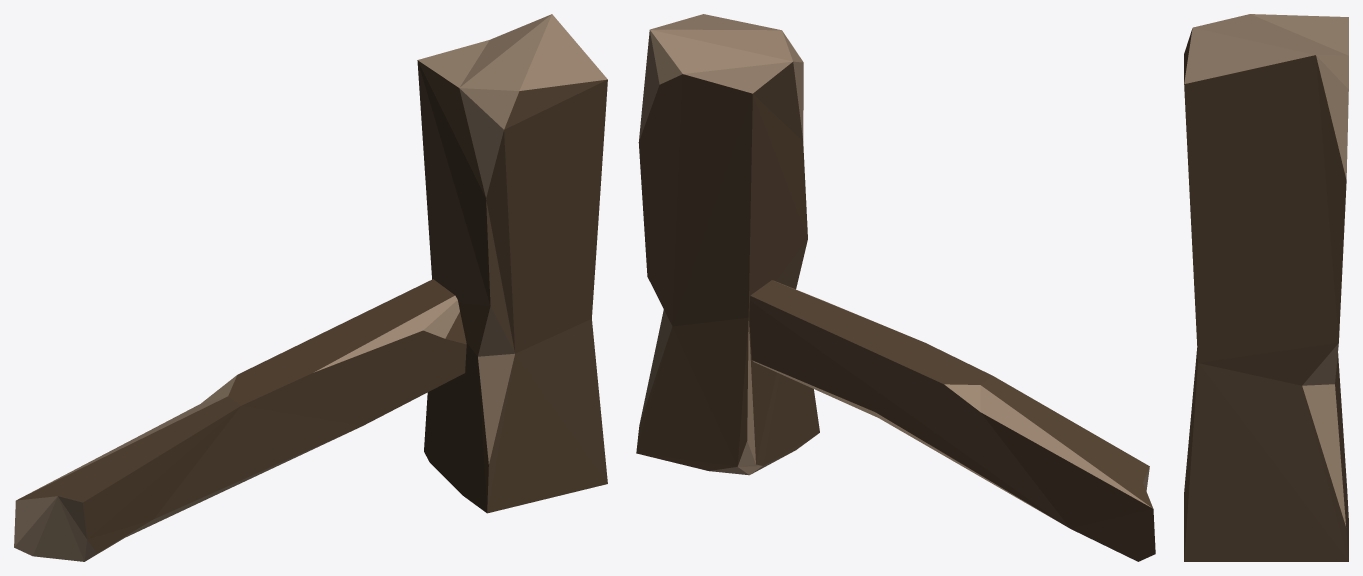
The model's file is Railing_B_04.FBX.
3 renders of one model, left to right at view 1: azimuth 30°, elevation 25°; view 2: azimuth 150°, elevation 25°; view 3: azimuth 270°, elevation 25°, orthographic. The views are drawn at different scales.
Parts seen in each view (by area): view 1: Railing_B_04; view 2: Railing_B_04; view 3: Railing_B_04.
Boxes of the visible parts, bbox=[...] form: Railing_B_04: bbox=[14, 14, 607, 561]; Railing_B_04: bbox=[636, 14, 1155, 561]; Railing_B_04: bbox=[1184, 14, 1348, 561].
Size of the model in its own units: 1.48 by 1.14 by 0.337.
